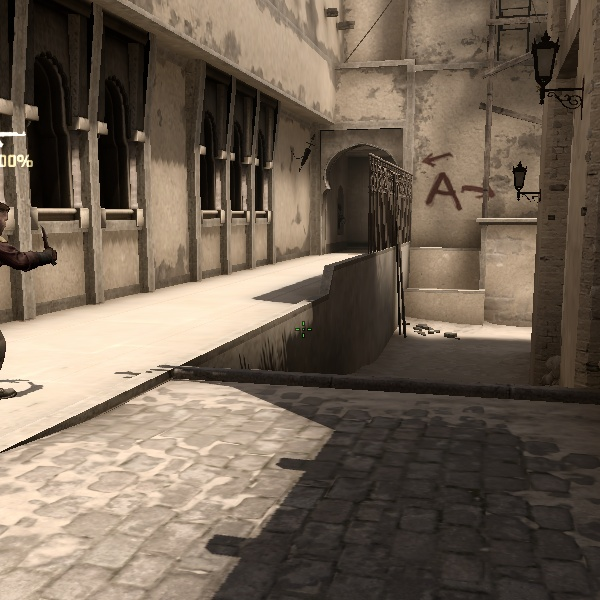t_head: (0, 191, 26, 247)
